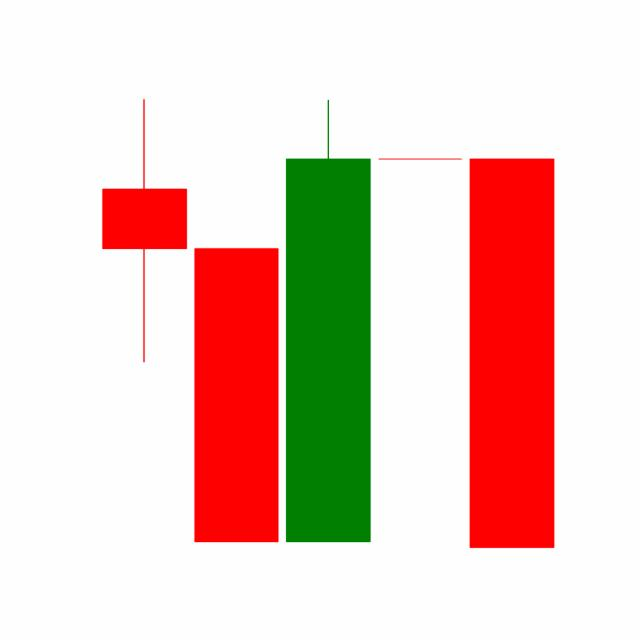Marubozu: (464, 154, 558, 551)
